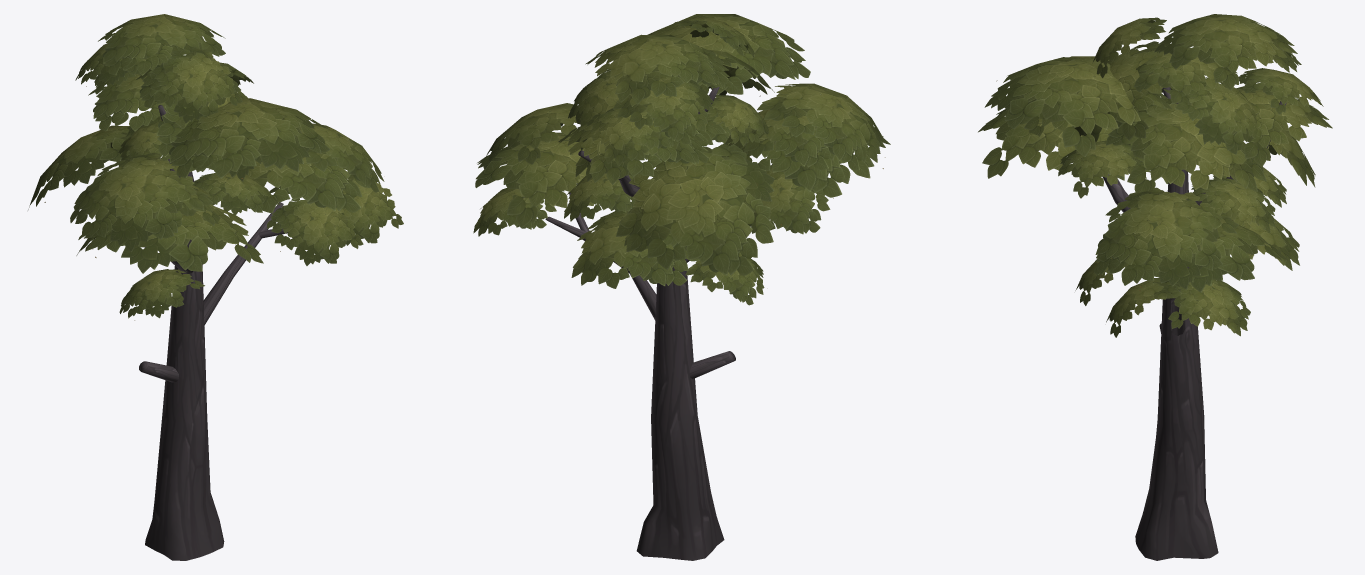
File: oak.glb
3 renders of one model, left to right at view 1: azimuth 30°, elevation 25°; view 2: azimuth 150°, elevation 25°; view 3: azimuth 270°, elevation 25°, orthographic. The views are drawn at different scales.
Parts seen in each view (by area): view 1: oak_green_1; view 2: oak_green_1; view 3: oak_green_1.
Boxes of the visible parts, x1,y1,x2,y2 form: oak_green_1: (28,14,403,560); oak_green_1: (473,14,890,560); oak_green_1: (978,14,1332,560).
Bounding box in the file's own units: 4.69 × 6.25 × 4.31.
Materials: 1 (1 with a texture image).
